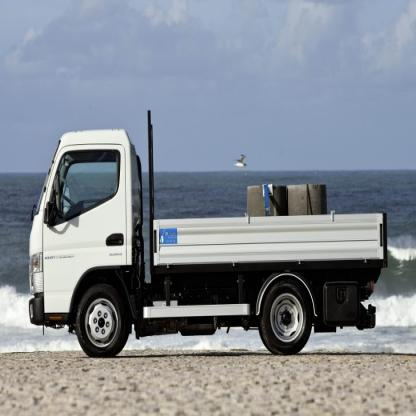truck: (29, 110, 391, 356)
